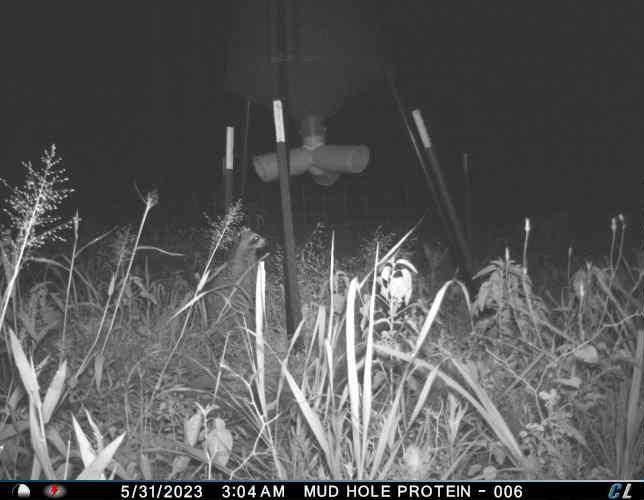Raccoon: (218, 224, 268, 323)
